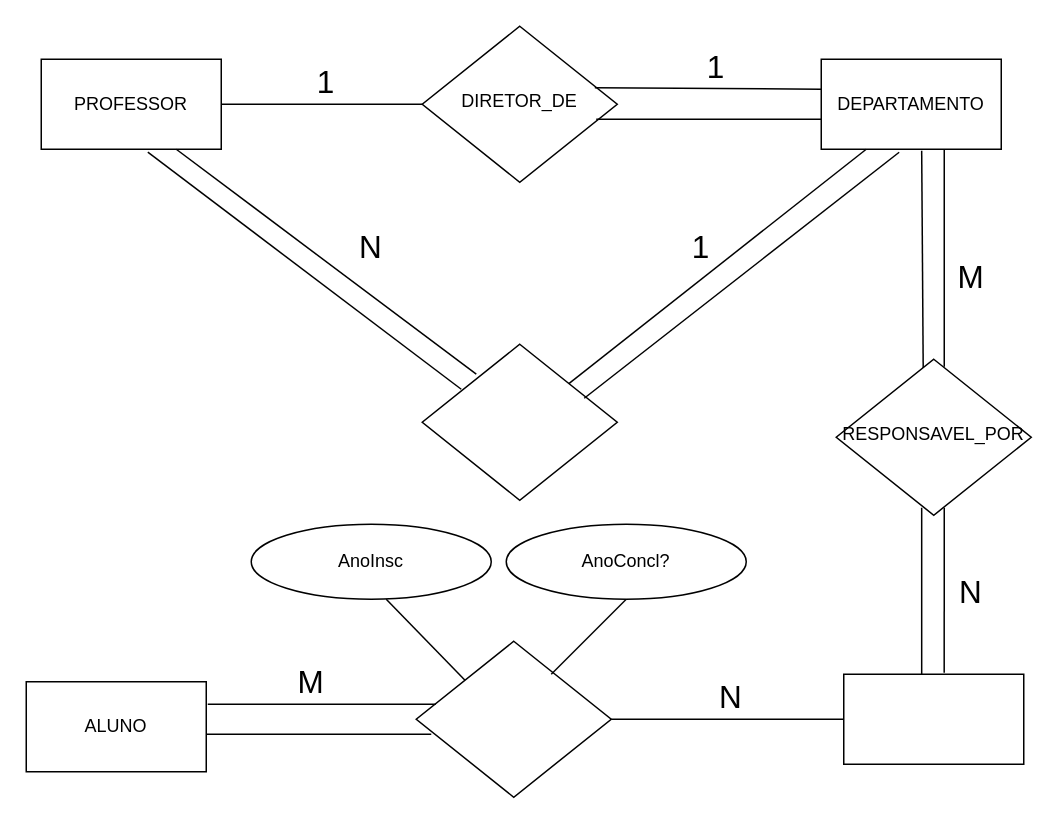
Some shapes in this 1058 by 824 pixel diagram are drawn without their labels. Here are the shapes that lost their labels. From the top down, the centre of each, then its label:
At (x=519, y=421): "TRABALHA_EM".
At (x=513, y=718): "INSCRITO_EM".
At (x=933, y=718): "CURSO".
